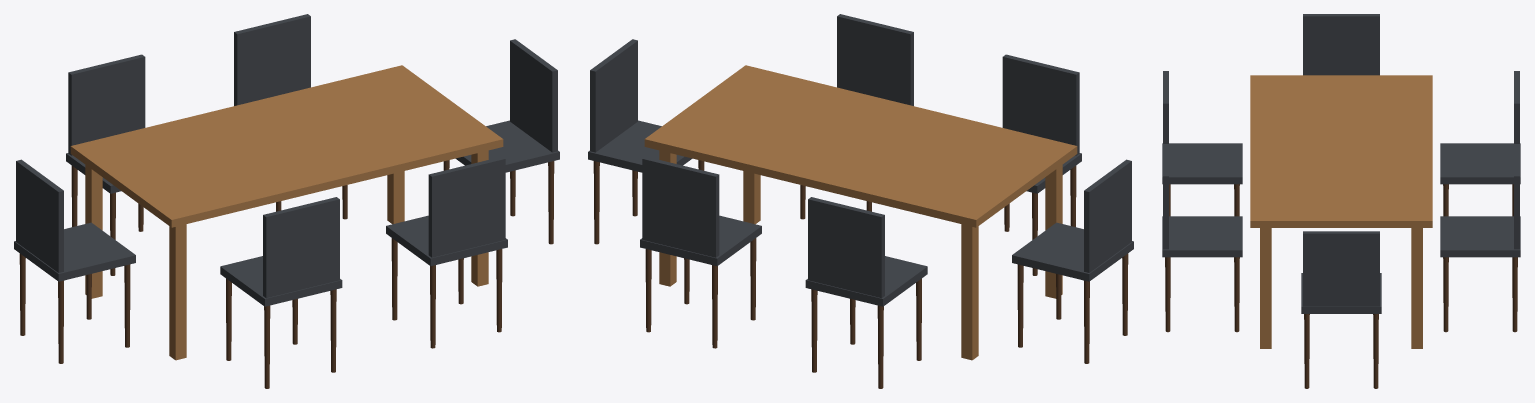
The model's file is dining_table_6.glb.
3 views of the same model, side by side, from view 1: azimuth 30°, elevation 25°; view 2: azimuth 150°, elevation 25°; view 3: azimuth 270°, elevation 25° (orthographic). The views are drawn at different scales.
Size of the model in its own units: 2.72 by 0.9 by 1.87.
